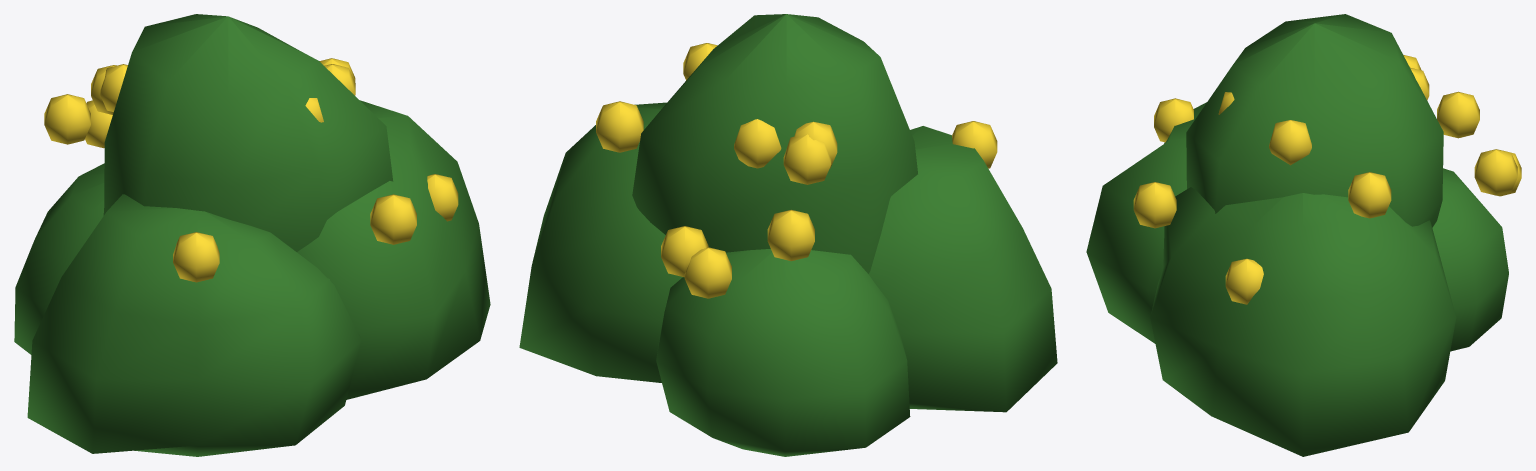
File: SM_FlowerBush_Yellow.fbx
The picture shows the model from 3 angles, left to right: view 1: azimuth 30°, elevation 25°; view 2: azimuth 150°, elevation 25°; view 3: azimuth 270°, elevation 25°; orthographic projection. The views are drawn at different scales.
Parts seen in each view (by area): view 1: SM_FlowerBush_Yellow; view 2: SM_FlowerBush_Yellow; view 3: SM_FlowerBush_Yellow.
Part boxes in pixels (x1,y1,x2,y2): SM_FlowerBush_Yellow: (14, 14, 490, 456); SM_FlowerBush_Yellow: (519, 14, 1057, 456); SM_FlowerBush_Yellow: (1086, 14, 1521, 456).
Bounding box in the file's own units: 1.67 × 1.24 × 1.47.
